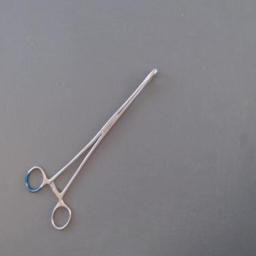Sponge Forceps: (20, 58, 164, 236)
